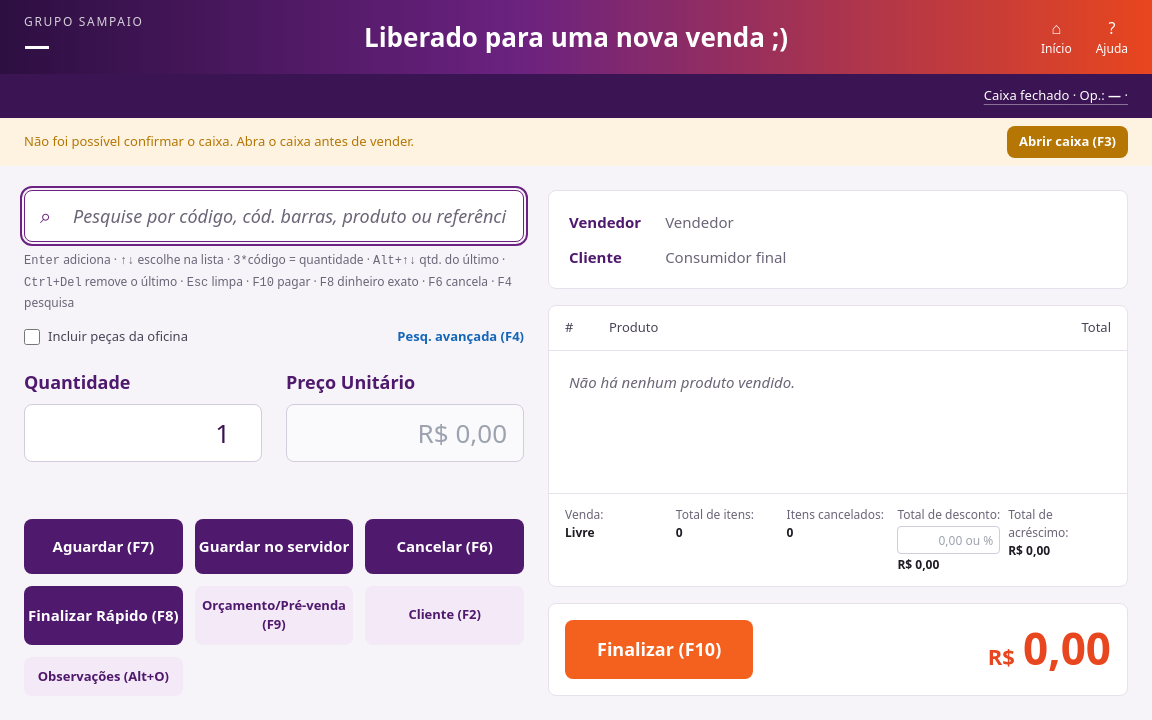
Test: a gaveta não é prometida (GAP-V55) › com agente local registrado, a frase muda — sem inventar botão
In the field labelled "Pesquise por código, cód. barras, produto ou referência": coordinates (274, 216) [24,190,524,242], type "7890000001111"
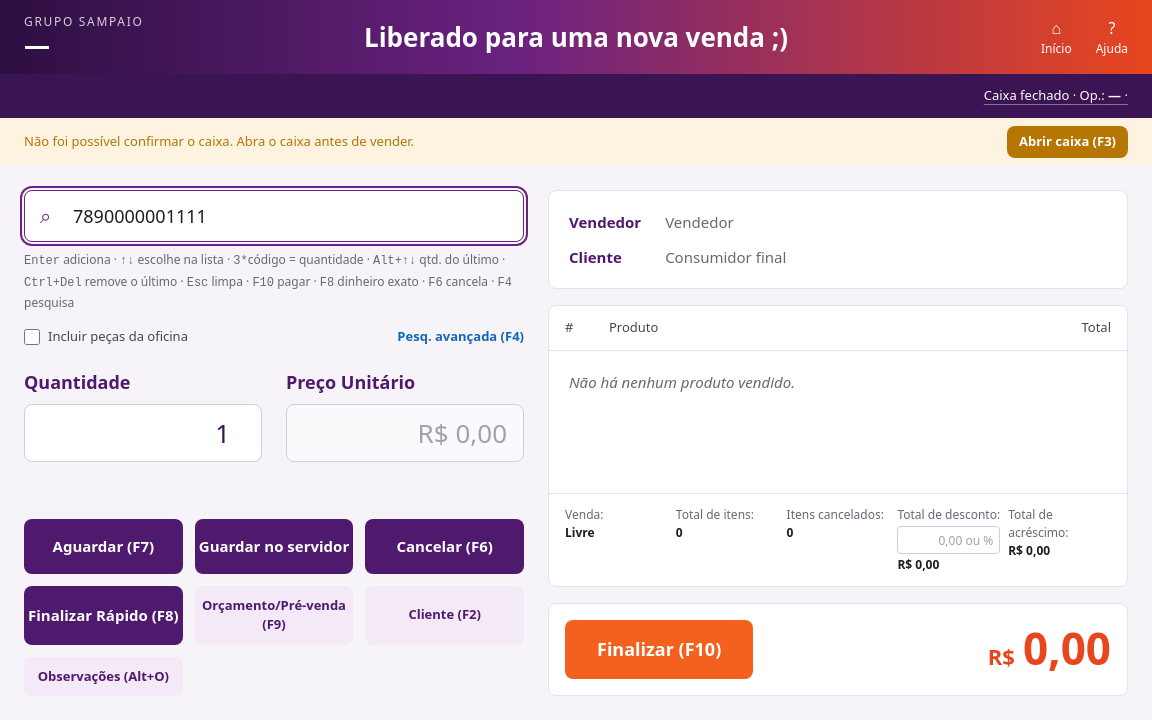
Press Enter in the field named "Pesquise por código", box [24,190,524,242]
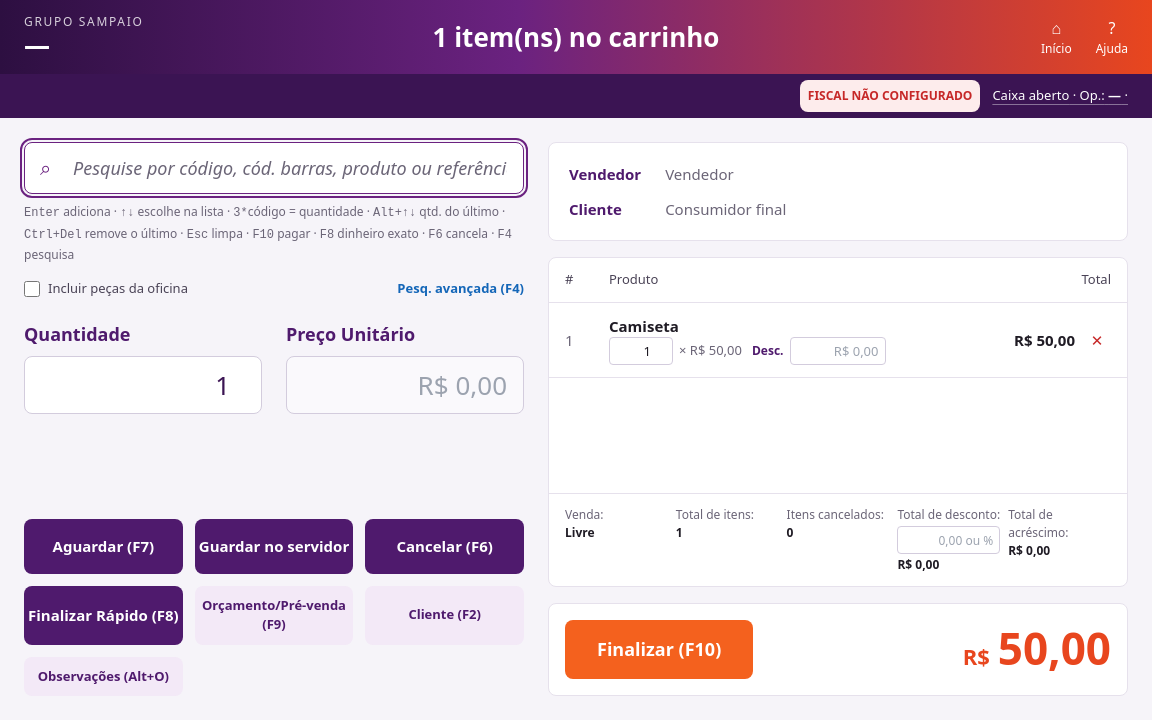
Check: the button named "Remover " is shown, box [1083,324,1111,356]
Click the button "Finalizar Rápido (F8)": coordinates (103, 615) [24,586,183,644]
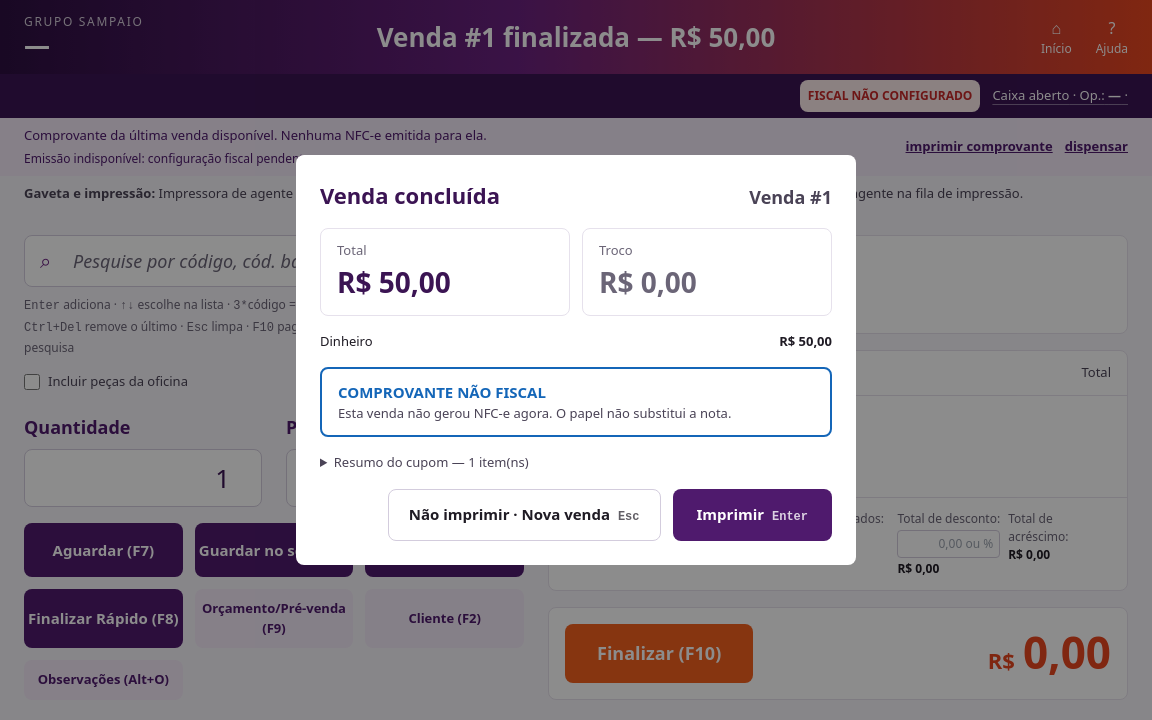
Check: the element with test id "pdv-gaveta-verdade" shows "agente local", box [158,184,1023,202]
